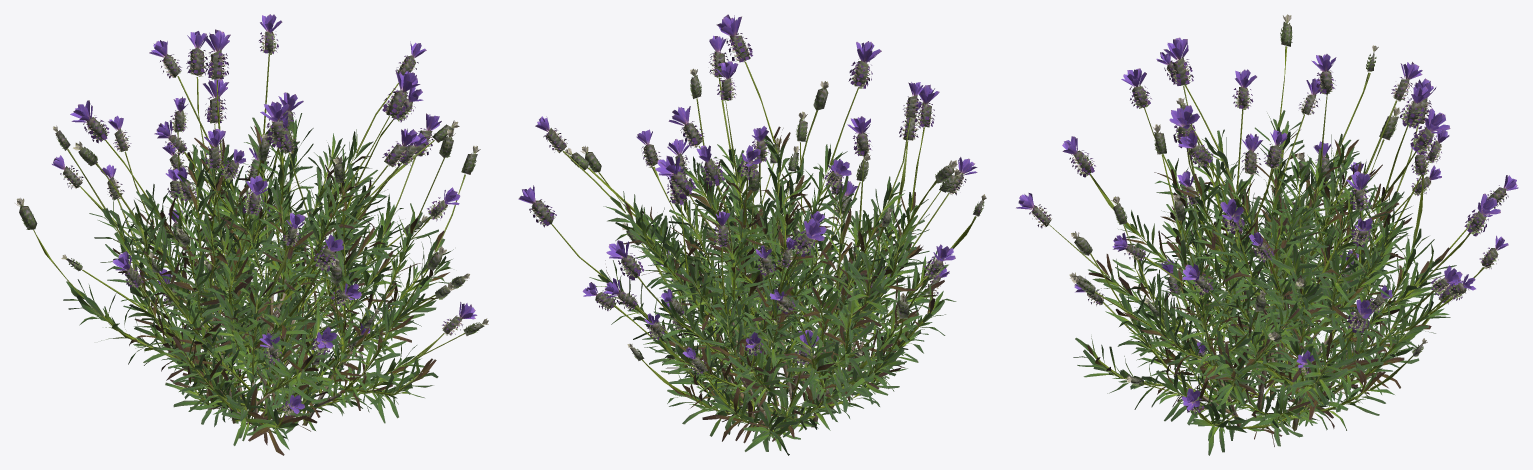
File: lavander.dae
The picture shows the model from 3 angles, left to right: view 1: azimuth 30°, elevation 25°; view 2: azimuth 150°, elevation 25°; view 3: azimuth 270°, elevation 25°; orthographic projection.
Visible parts, largest first — view 1: Lavandula_stoechas_01_05; view 2: Lavandula_stoechas_01_05; view 3: Lavandula_stoechas_01_05.
Boxes of the visible parts, x1=… form: Lavandula_stoechas_01_05: x1=15, y1=14, x2=488, y2=455; Lavandula_stoechas_01_05: x1=518, y1=14, x2=986, y2=455; Lavandula_stoechas_01_05: x1=1016, y1=14, x2=1518, y2=455.
Size of the model in its own units: 0.6488 by 0.6867 by 0.5765.
Materials: 5 (5 with a texture image).
